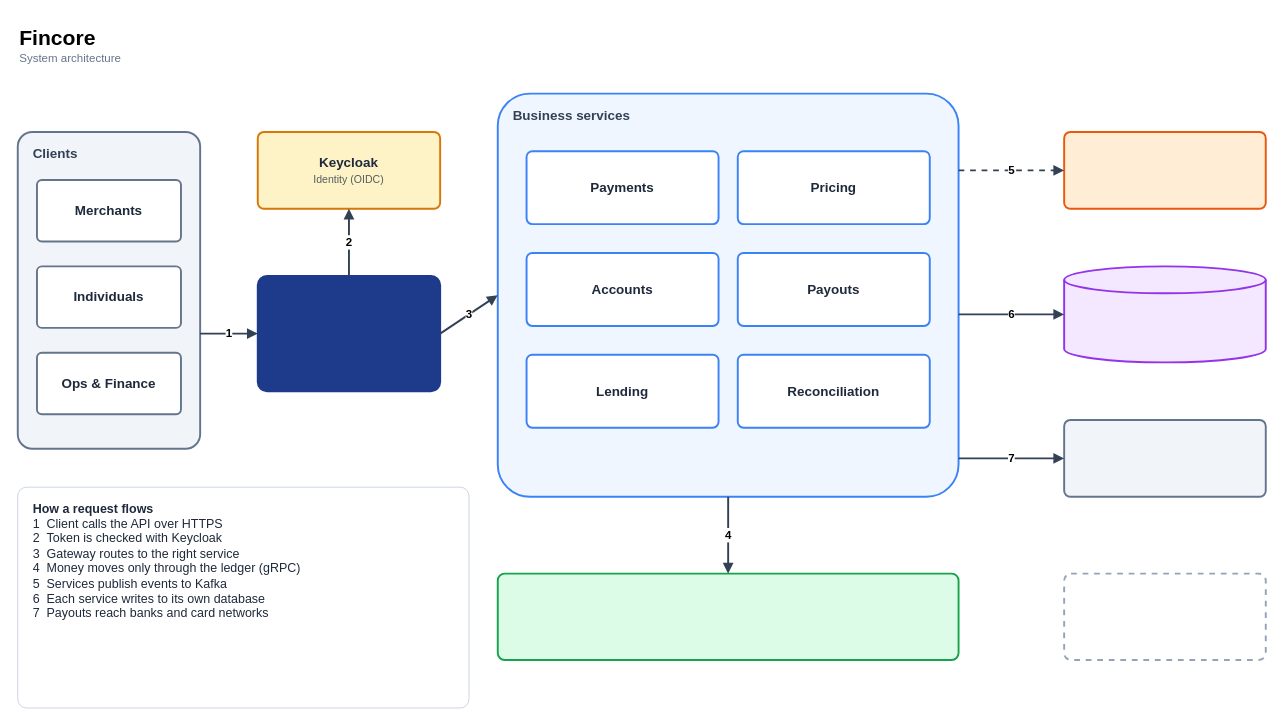
Image size: 1283x725. Some labels were removed from this diagram. Here are the shapes that lost their labels. From the top down, the centre of each, then its label:
At [1164,170]: "Kafka Events".
At [348,333]: "API Gateway Auth · routing · rate limit".
At [1164,314]: "PostgreSQL One database per service".
At [1164,458]: "Rails simulator Card · bank · mobile money".
At [727,616]: "Ledger service Double-entry · source of truth".
At [1164,616]: "Observability Prometheus · Grafana".
